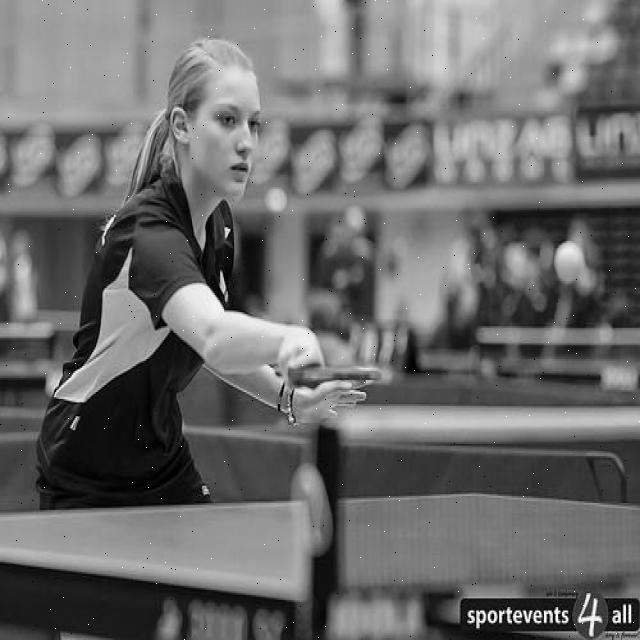ping-pong-ball: (552, 238, 584, 284)
